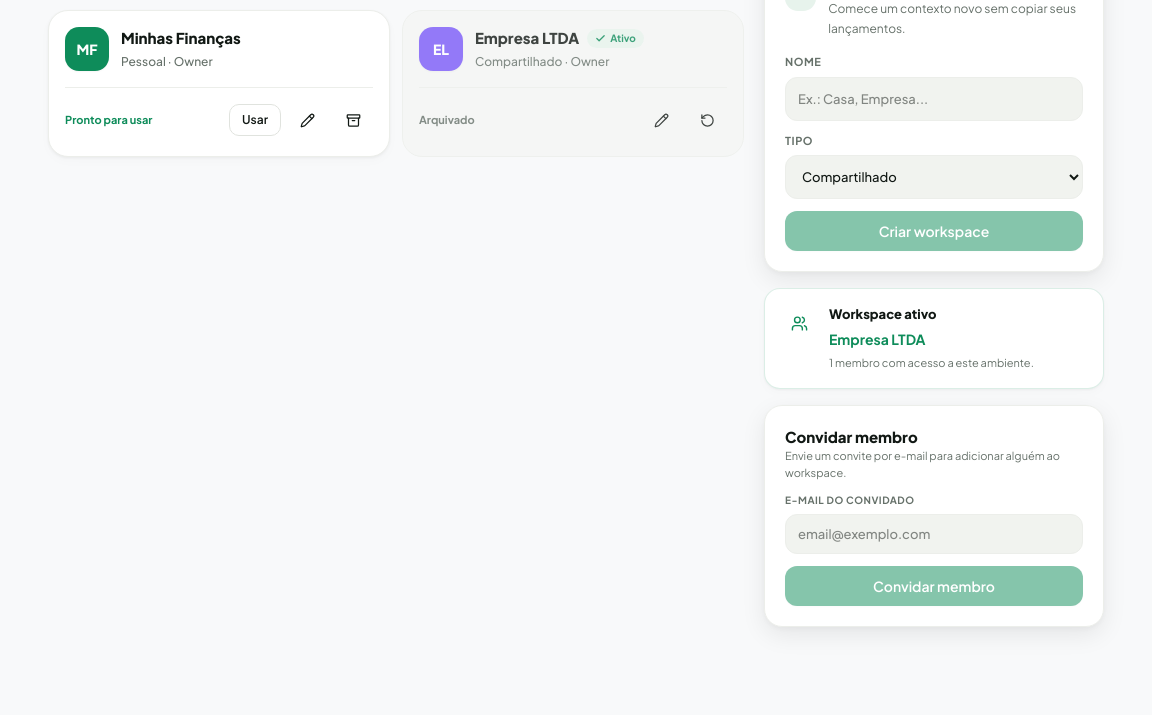
Test: WorkspaceManagerPage › shows clear error when member invites and backend returns invite_forbidden
(page scrolled)
In the field labelled "E-mail do convidado": (934, 534) left=785, top=514, right=1083, bottom=554, type "novo@example.com"
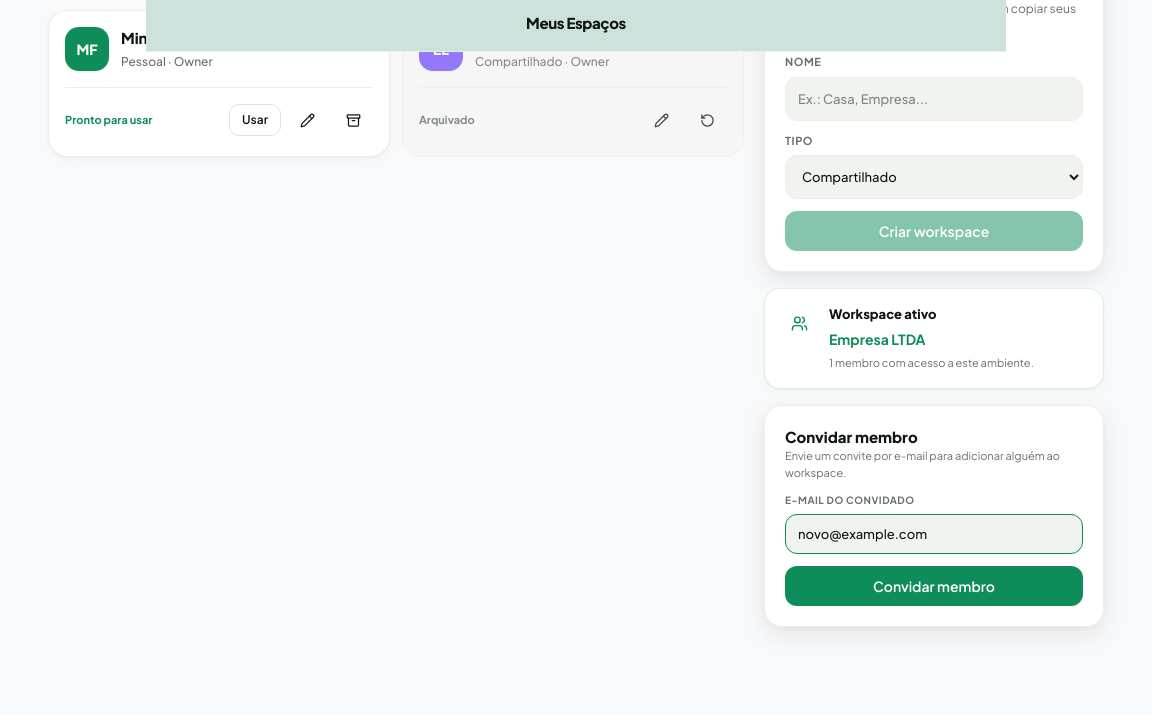
Click the button "Convidar membro": (934, 586) left=785, top=566, right=1083, bottom=606
(page scrolled)
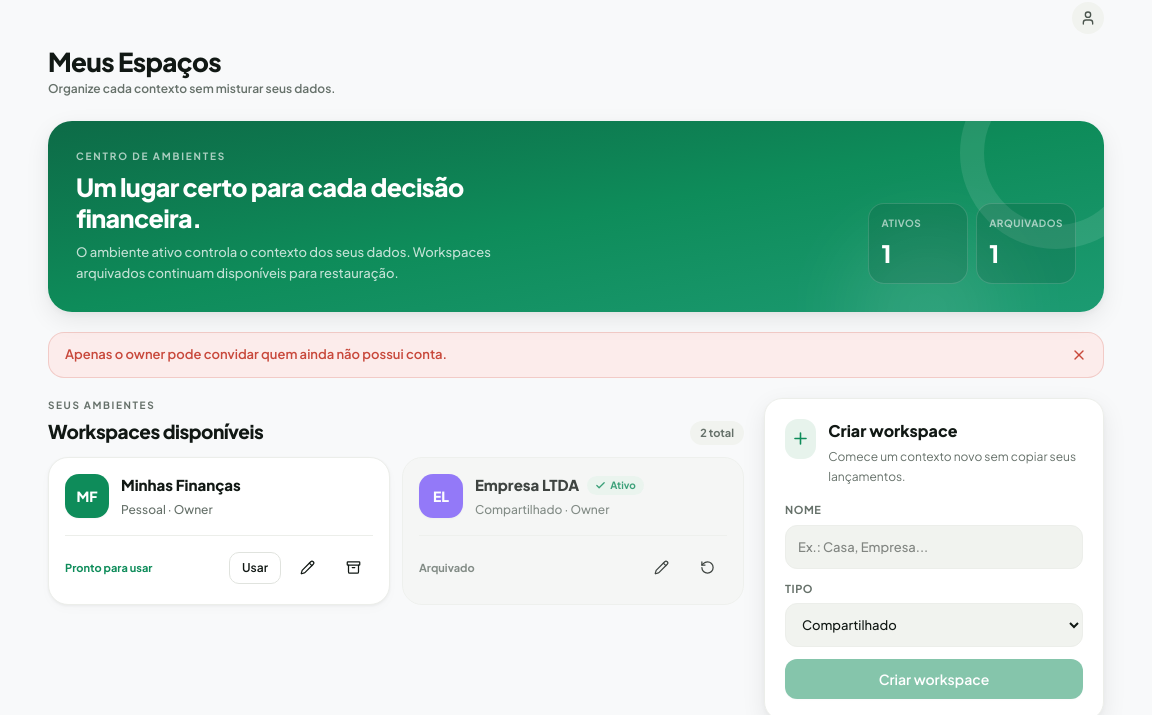
Result: the text "Apenas o owner pode convidar quem ainda não possui conta." is shown at left=65, top=345, right=447, bottom=365
